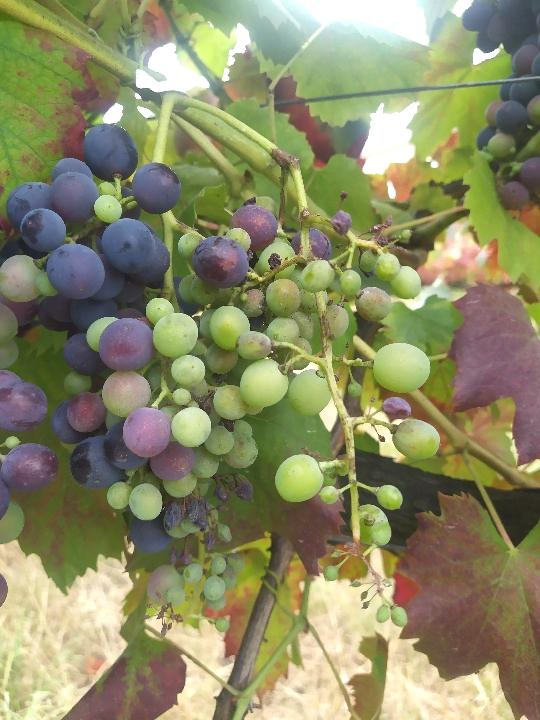grape: (7, 120, 257, 637), (189, 188, 442, 633)
